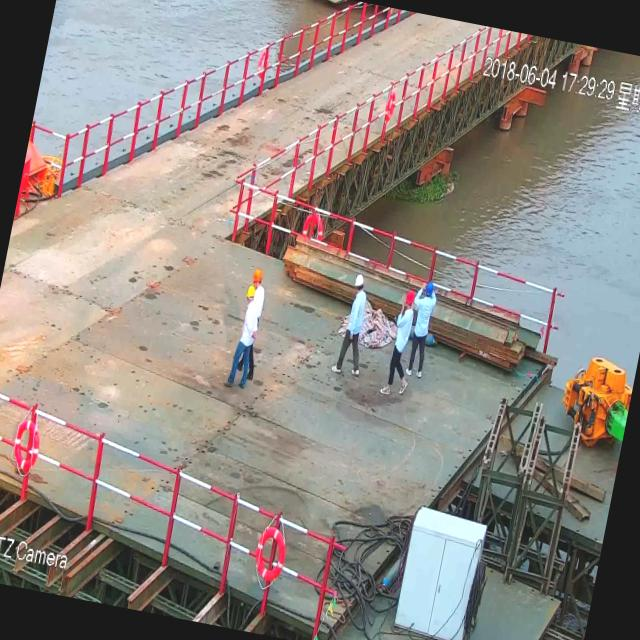helmet: (249, 264, 268, 292), (350, 272, 368, 294), (402, 290, 416, 312), (244, 284, 257, 304)
no-vest: (412, 294, 438, 342), (236, 304, 262, 350), (345, 292, 370, 338), (392, 308, 415, 357)
